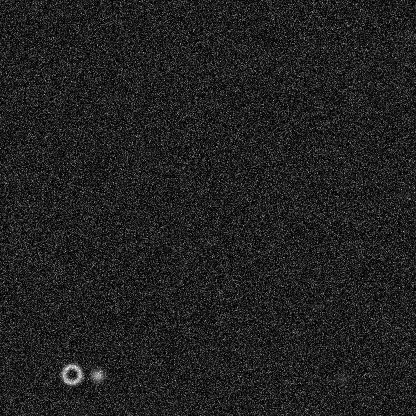Ring: (59, 362, 83, 386)
Spot: (89, 367, 105, 383), (333, 370, 349, 386)
